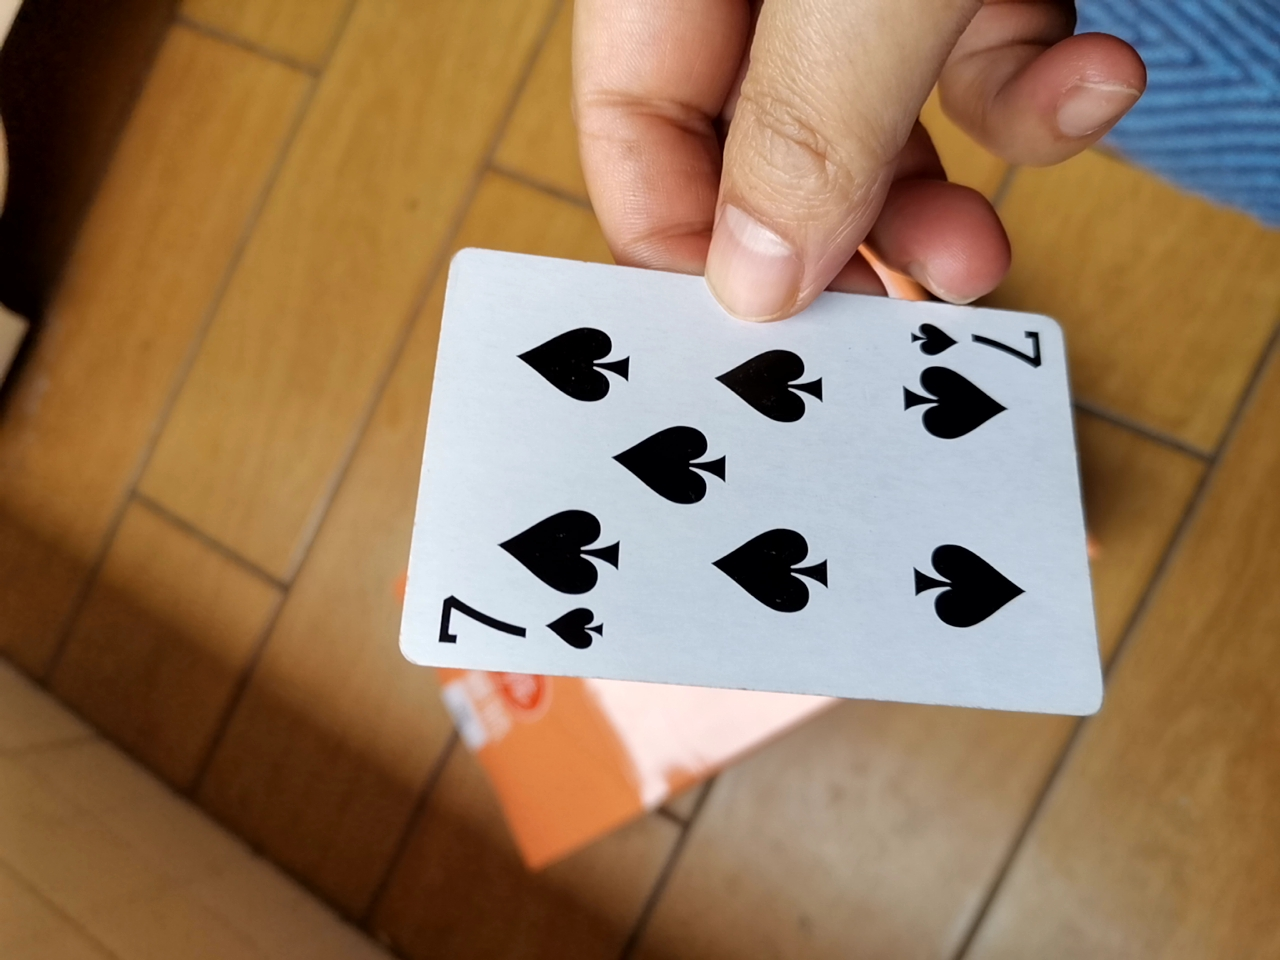ht 7: (373, 252, 1115, 722)
